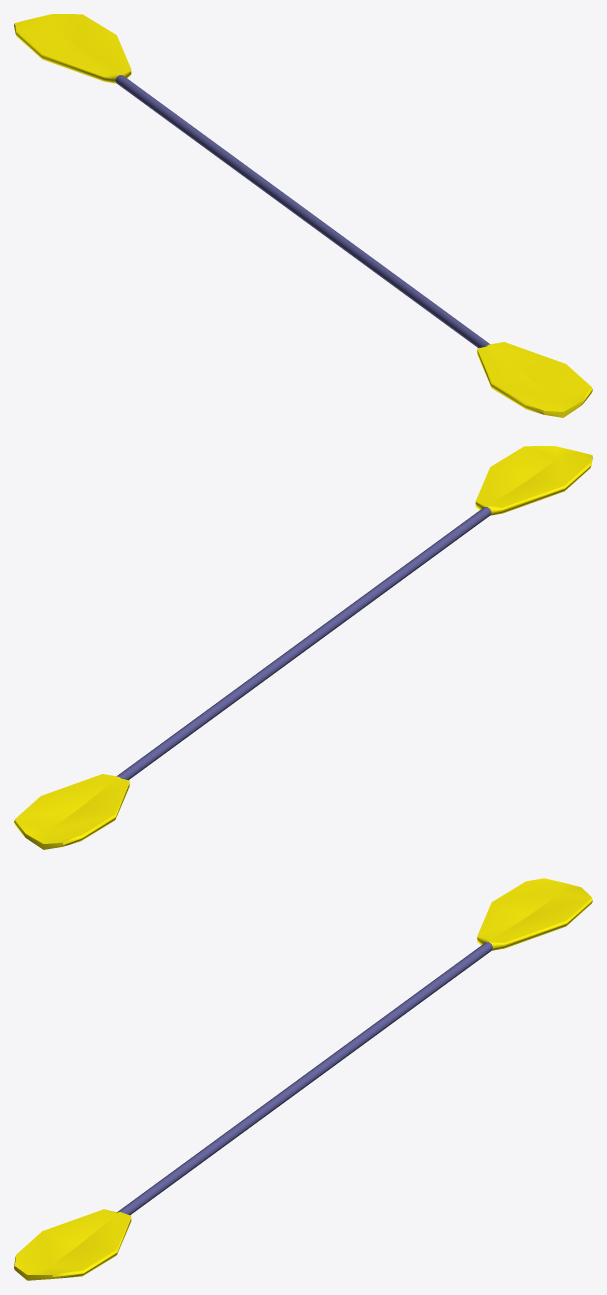
File: paddle.fbx
3 renders of one model, top to bottom at view 1: azimuth 30°, elevation 25°; view 2: azimuth 150°, elevation 25°; view 3: azimuth 330°, elevation 25°, orthographic.
Visible parts, largest first — view 1: paddle; view 2: paddle; view 3: paddle.
Part boxes in pixels (bbox=[...]): paddle: bbox=[14, 14, 592, 417]; paddle: bbox=[14, 446, 592, 849]; paddle: bbox=[14, 878, 592, 1280].
Size of the model in its own units: 21 by 3.5 by 257.
